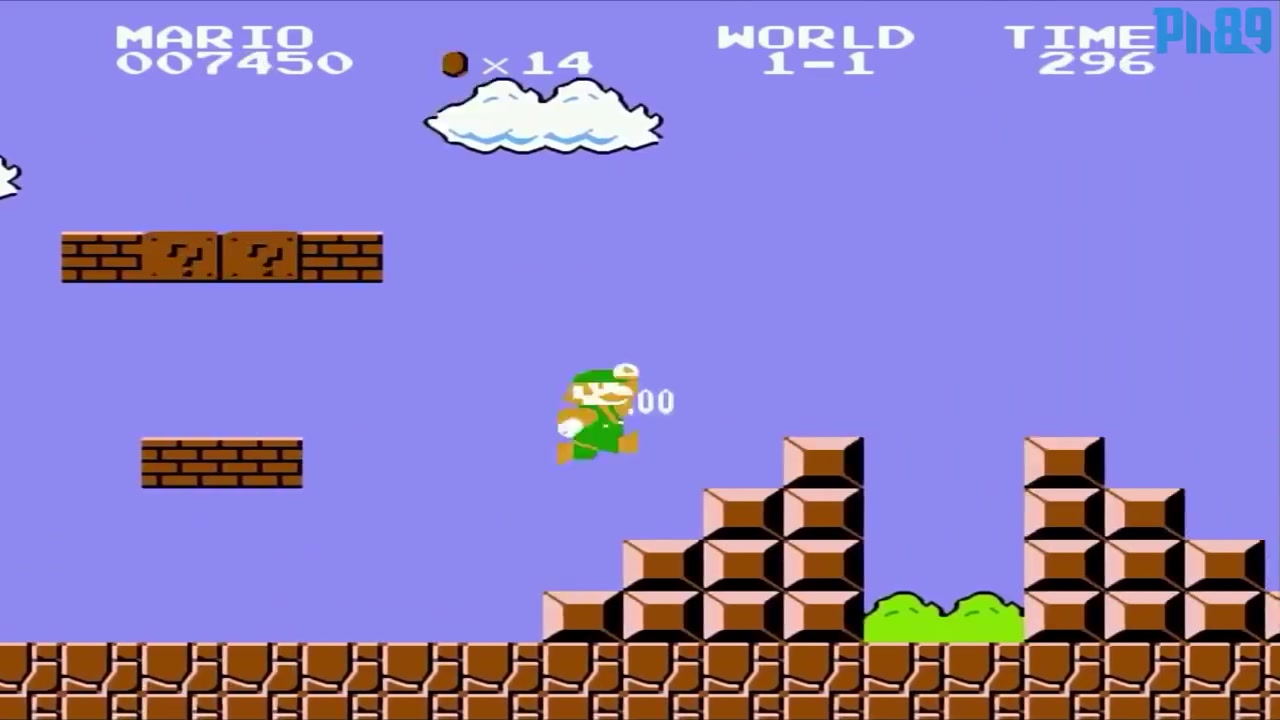mario: (545, 353, 645, 469)
